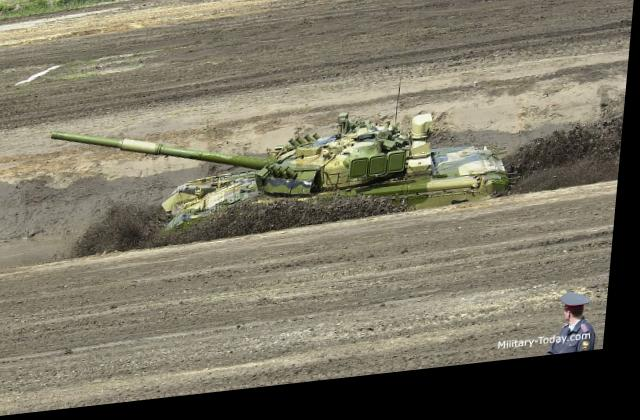other: (559, 306, 603, 368)
tank: (166, 106, 513, 240)
